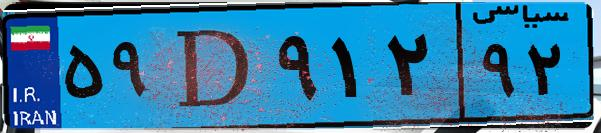1: (330, 28, 385, 110)
2: (385, 28, 445, 110), (525, 38, 570, 115)
5: (57, 26, 110, 100)
9: (270, 28, 330, 110), (475, 38, 525, 113), (110, 28, 158, 98)
D: (158, 12, 270, 120)
